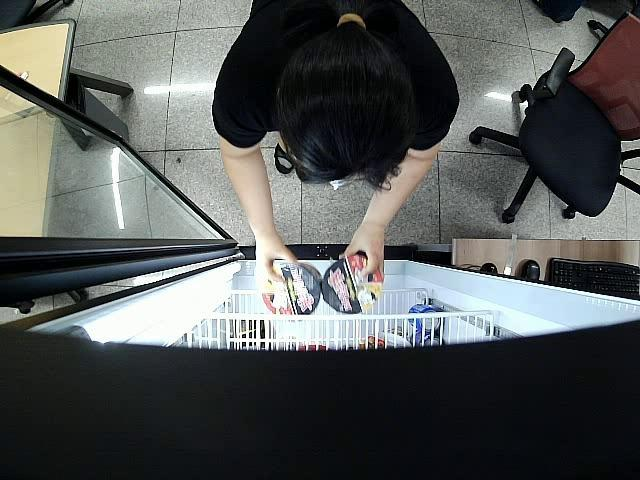07_buldak_L: (322, 253, 382, 316), (260, 260, 322, 318)
